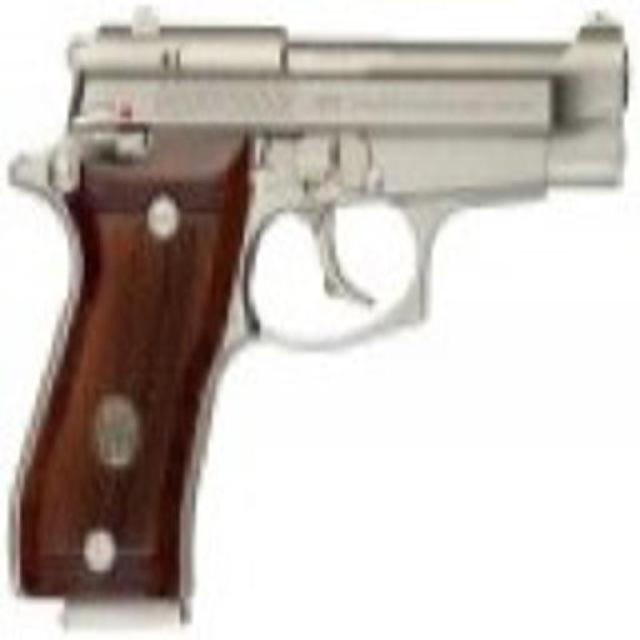pistol: (7, 5, 627, 602)
